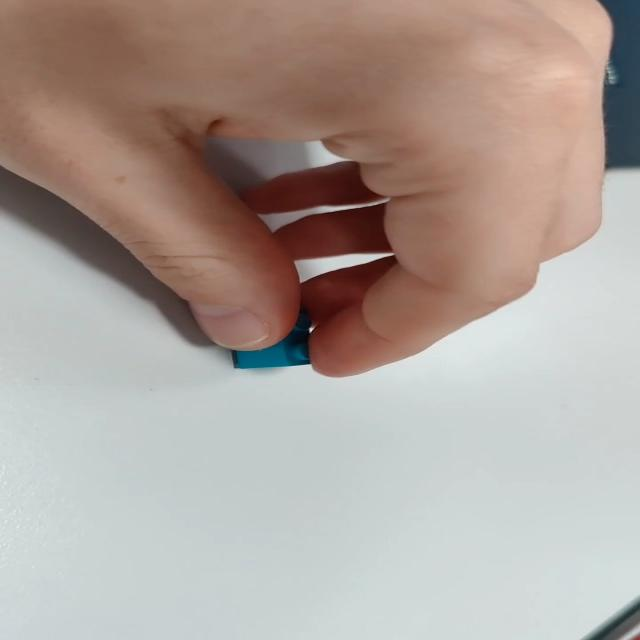C2x1x1: (226, 306, 319, 370)
